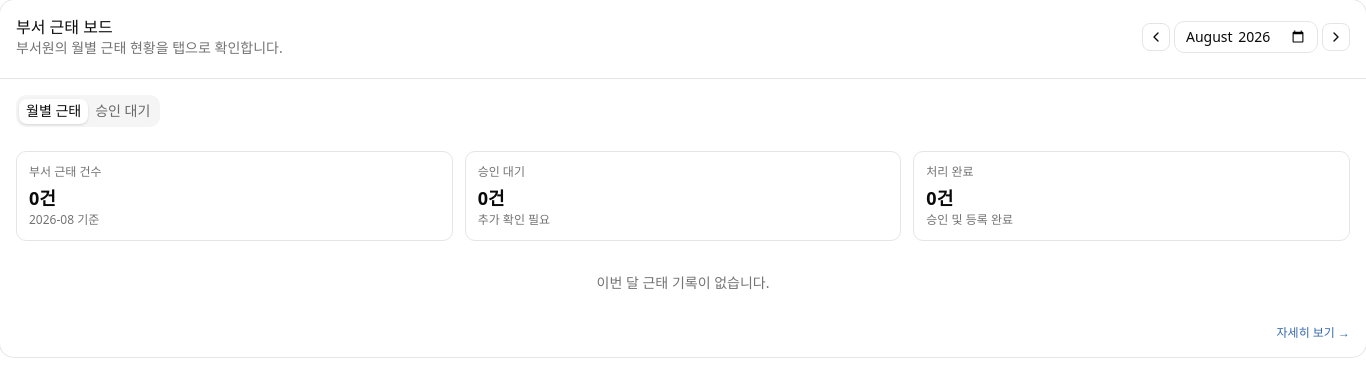
Test: DeptAttendanceBoardWidget - 승인 대기 탭 › 탭 전환 시 부서 승인 대기 목록을 조회하고 totalElements를 통계로 보여준다
Click the tab "승인 대기" at (123, 111), box [88, 98, 157, 124]
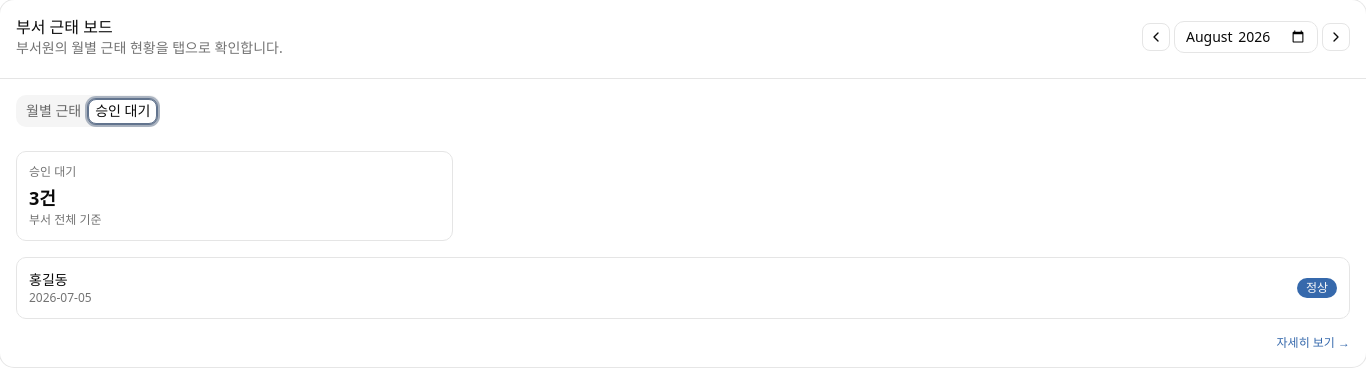
Check: the text "3건" is shown, box [29, 186, 56, 210]
Check: the text "홍길동" is shown, box [29, 270, 68, 289]
Check: the text "2026-07-05" is shown, box [29, 290, 92, 306]
